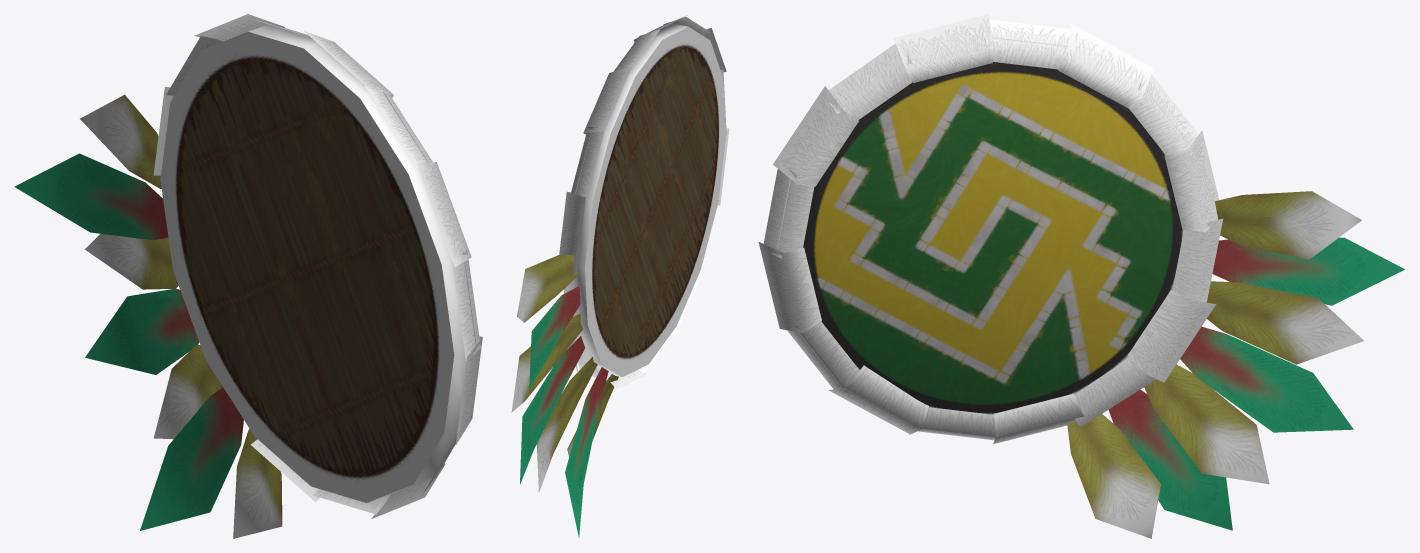
Rendered from shield-sacredshields.glb.
The picture shows the model from 3 angles, left to right: view 1: azimuth 30°, elevation 25°; view 2: azimuth 150°, elevation 25°; view 3: azimuth 270°, elevation 25°; orthographic projection. The views are drawn at different scales.
Size of the model in its own units: 0.1539 by 0.7299 by 0.8104.
Materials: 1 (1 with a texture image).
